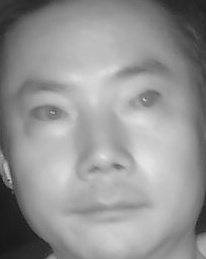eye: (27, 102, 73, 128), (126, 87, 166, 114)
mouth: (72, 189, 151, 228)
